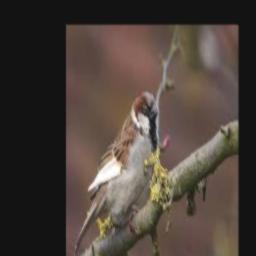Sparrow: (73, 90, 158, 256)
